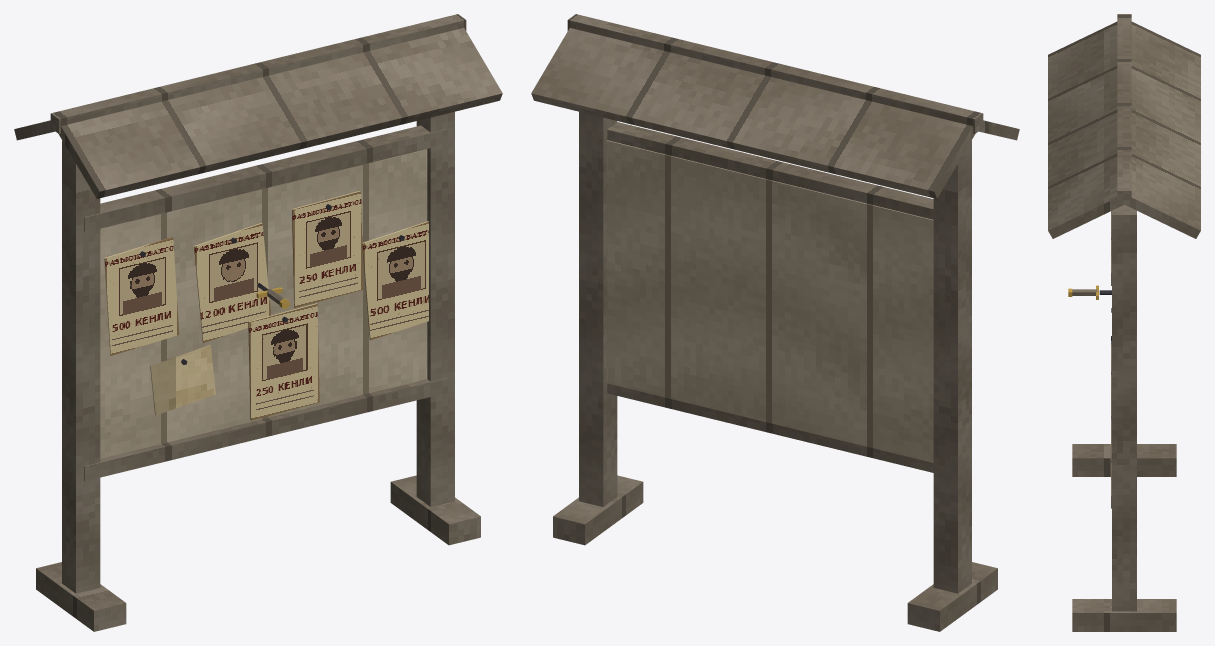
Rendered from bounty_board.glb.
The picture shows the model from 3 angles, left to right: view 1: azimuth 30°, elevation 25°; view 2: azimuth 150°, elevation 25°; view 3: azimuth 270°, elevation 25°; orthographic projection. The views are drawn at different scales.
Visible parts, largest first — view 1: body; view 2: body; view 3: body.
Boxes of the visible parts, bbox=[...] form: body: bbox=[14, 14, 502, 631]; body: bbox=[531, 14, 1019, 631]; body: bbox=[1048, 14, 1200, 631].
Size of the model in its own units: 2.02 by 2.36 by 0.7343.
Materials: 8 (8 with a texture image).
